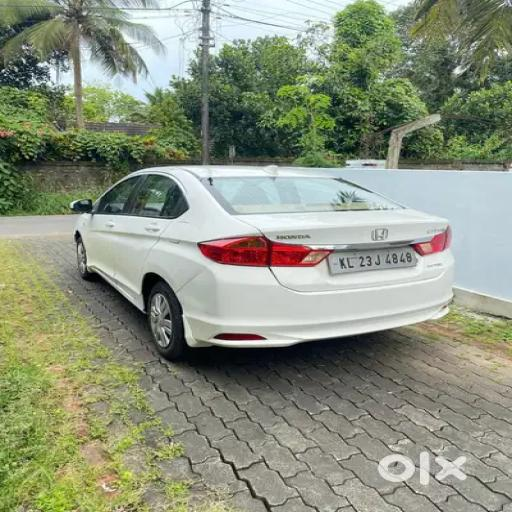License: (319, 247, 432, 273)
